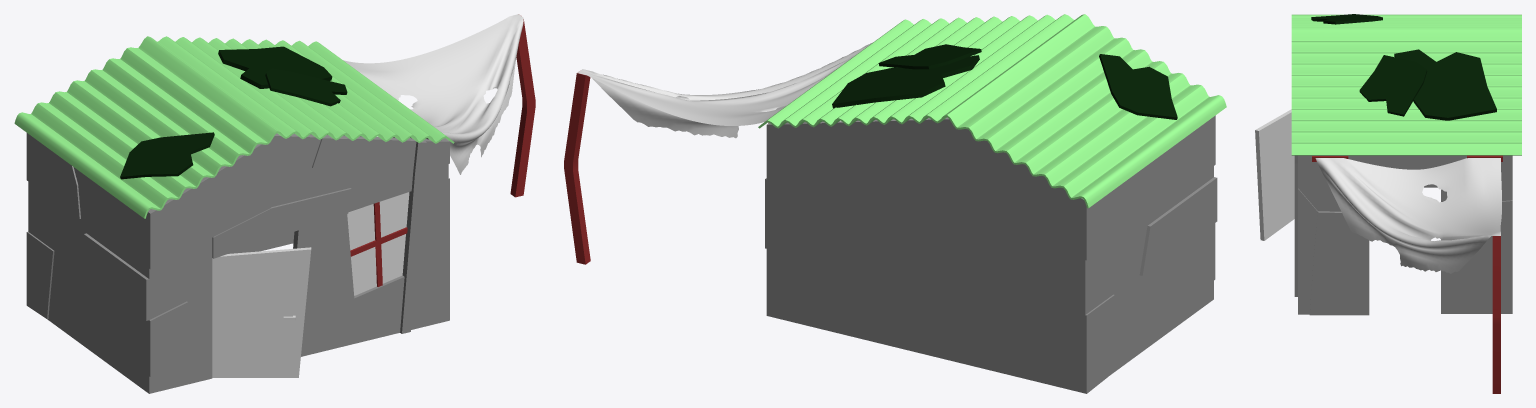
Rendered from AlaniHouse.FBX.
3 views of the same model, side by side, from view 1: azimuth 30°, elevation 25°; view 2: azimuth 150°, elevation 25°; view 3: azimuth 270°, elevation 25° (orthographic). The views are drawn at different scales.
Parts seen in each view (by area): view 1: HouseWalls001, Roof001, Door001, Tarp001, Window001, SheetMetal03, SheetMetal01, Post001, SheetMetal02, WoodPlank004; view 2: HouseWalls001, Roof001, Tarp001, SheetMetal01, SheetMetal03, Post001, SheetMetal02; view 3: Roof001, HouseWalls001, Tarp001, SheetMetal01, Door001, SheetMetal02, Post001, SheetMetal03.
Boxes of the visible parts, x1,y1,x2,y2 form: HouseWalls001: (26, 133, 449, 393); Roof001: (14, 36, 454, 218); Door001: (212, 247, 311, 377); Tarp001: (343, 14, 523, 174); Window001: (347, 192, 409, 295); SheetMetal03: (120, 132, 214, 179); SheetMetal01: (218, 46, 332, 88); Post001: (510, 19, 535, 197); SheetMetal02: (265, 68, 347, 106); WoodPlank004: (350, 202, 407, 286); HouseWalls001: (765, 115, 1217, 393); Roof001: (758, 14, 1226, 208); Tarp001: (577, 43, 871, 138); SheetMetal01: (832, 55, 979, 108); SheetMetal03: (1099, 54, 1177, 119); Post001: (564, 73, 590, 264); SheetMetal02: (878, 44, 981, 69); Roof001: (1291, 14, 1521, 155); HouseWalls001: (1294, 155, 1512, 315); Tarp001: (1315, 158, 1501, 273); SheetMetal01: (1394, 49, 1496, 120); Door001: (1255, 109, 1294, 240); SheetMetal02: (1359, 55, 1427, 116); Post001: (1492, 236, 1500, 393); SheetMetal03: (1311, 14, 1382, 24).
Bounding box in the file's own units: 10.09 × 4.49 × 5.21.
